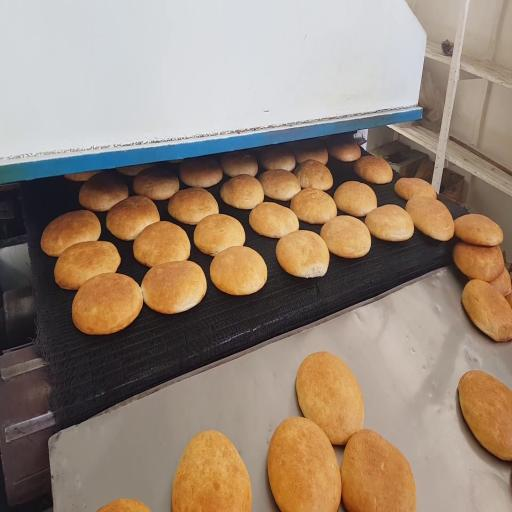bread: (267, 418, 341, 511), (296, 352, 364, 445), (172, 431, 251, 511), (341, 430, 416, 511), (459, 371, 511, 460), (72, 274, 142, 334), (141, 261, 206, 314), (54, 241, 120, 289), (462, 280, 511, 341), (210, 247, 267, 295), (41, 211, 101, 256), (133, 221, 190, 267), (276, 230, 329, 277), (106, 196, 159, 240), (406, 196, 454, 241), (194, 214, 245, 255), (321, 216, 370, 258), (453, 242, 504, 282), (79, 173, 128, 211), (249, 202, 299, 238), (168, 188, 218, 224), (365, 205, 414, 241), (291, 189, 337, 224), (334, 181, 377, 217), (455, 214, 503, 246), (133, 167, 179, 200), (220, 175, 264, 209), (179, 157, 222, 188), (259, 170, 301, 201), (294, 160, 333, 191), (354, 156, 393, 183), (220, 151, 258, 176), (395, 178, 436, 200), (260, 146, 295, 171), (294, 142, 328, 164), (328, 140, 361, 162), (98, 499, 150, 511), (491, 268, 511, 296), (116, 163, 154, 176), (65, 171, 101, 182), (506, 293, 511, 308)
